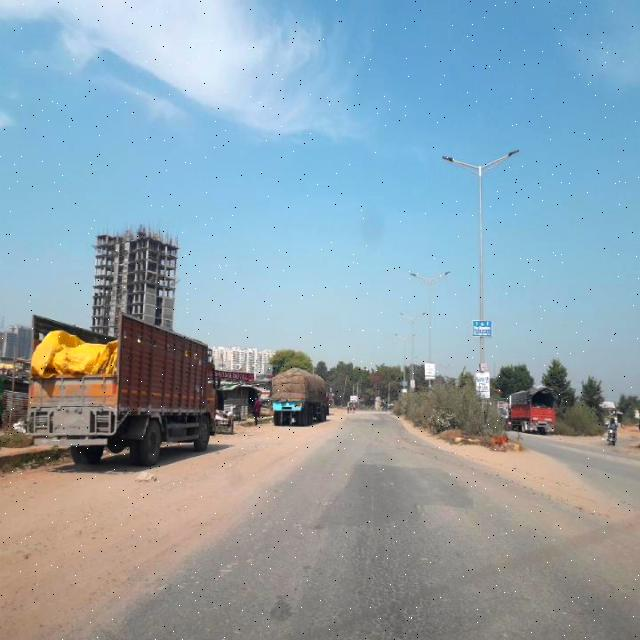D20: (329, 508, 458, 639)
